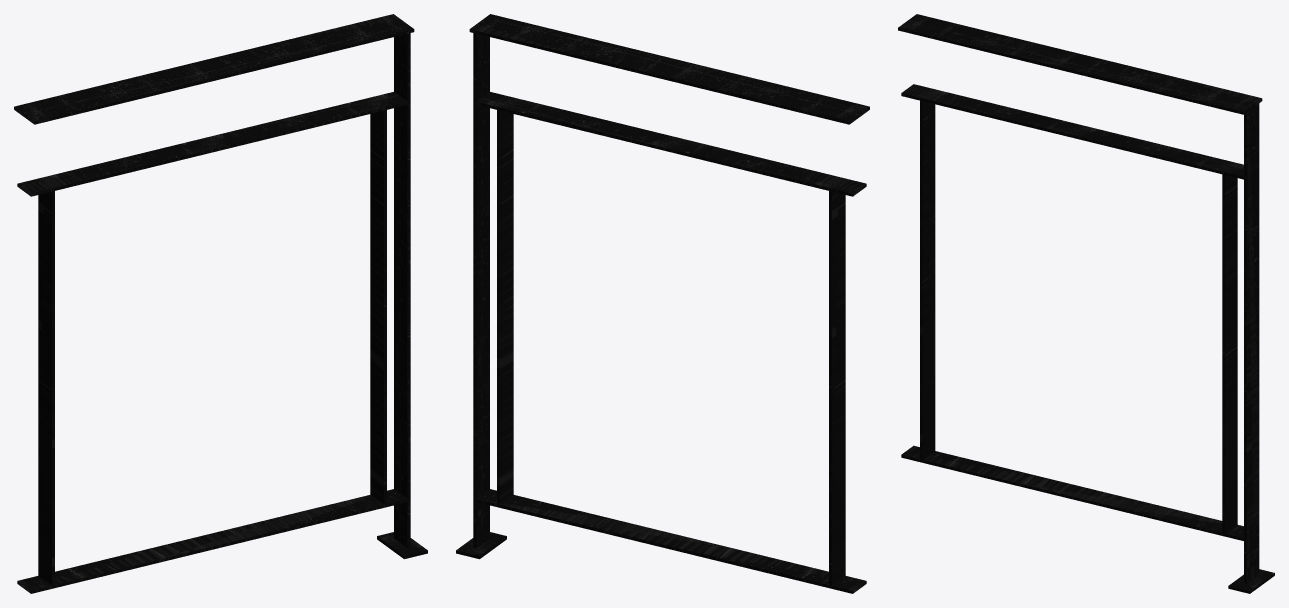
The model's file is 42x32_frame_export.fbx.
The picture shows the model from 3 angles, left to right: view 1: azimuth 30°, elevation 25°; view 2: azimuth 150°, elevation 25°; view 3: azimuth 330°, elevation 25°; orthographic projection. The views are drawn at different scales.
Parts seen in each view (by area): view 1: railing_42x64; view 2: railing_42x64; view 3: railing_42x64.
Part boxes in pixels (bbox=[...]): railing_42x64: bbox=[14, 14, 427, 593]; railing_42x64: bbox=[456, 14, 869, 593]; railing_42x64: bbox=[898, 14, 1274, 593].
Bounding box in the file's own units: 32.88 × 42.25 × 4.
Materials: 1 (1 with a texture image).
